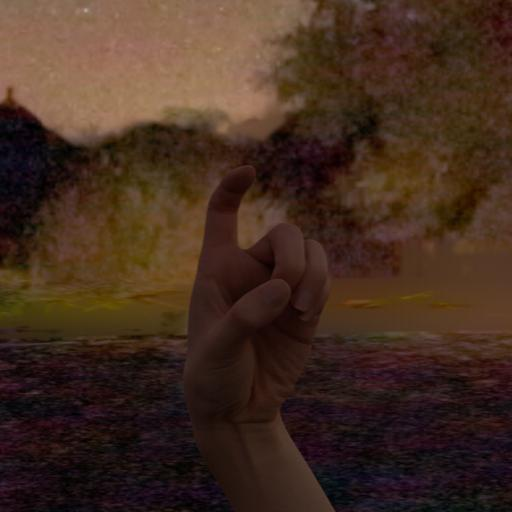X: (153, 136, 356, 469)
